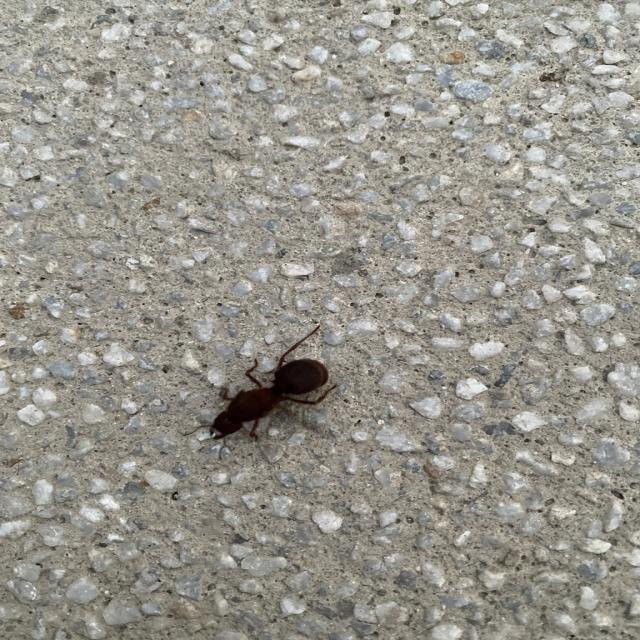Alive-Female-Dealate: (179, 324, 338, 462)
